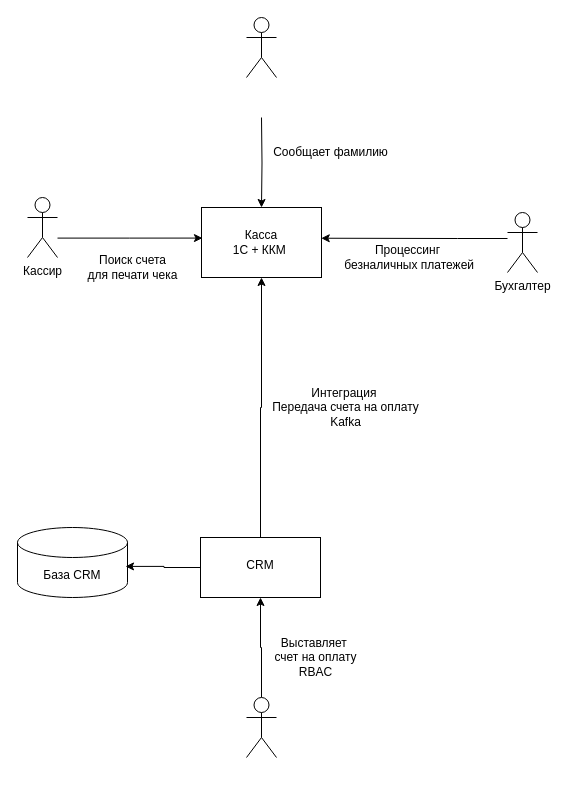
This 568x796 diagram has some shape labels left out. Each missing label, with the centre of its shape:
Пациент: point (261, 47)
Специалист: point (261, 727)
